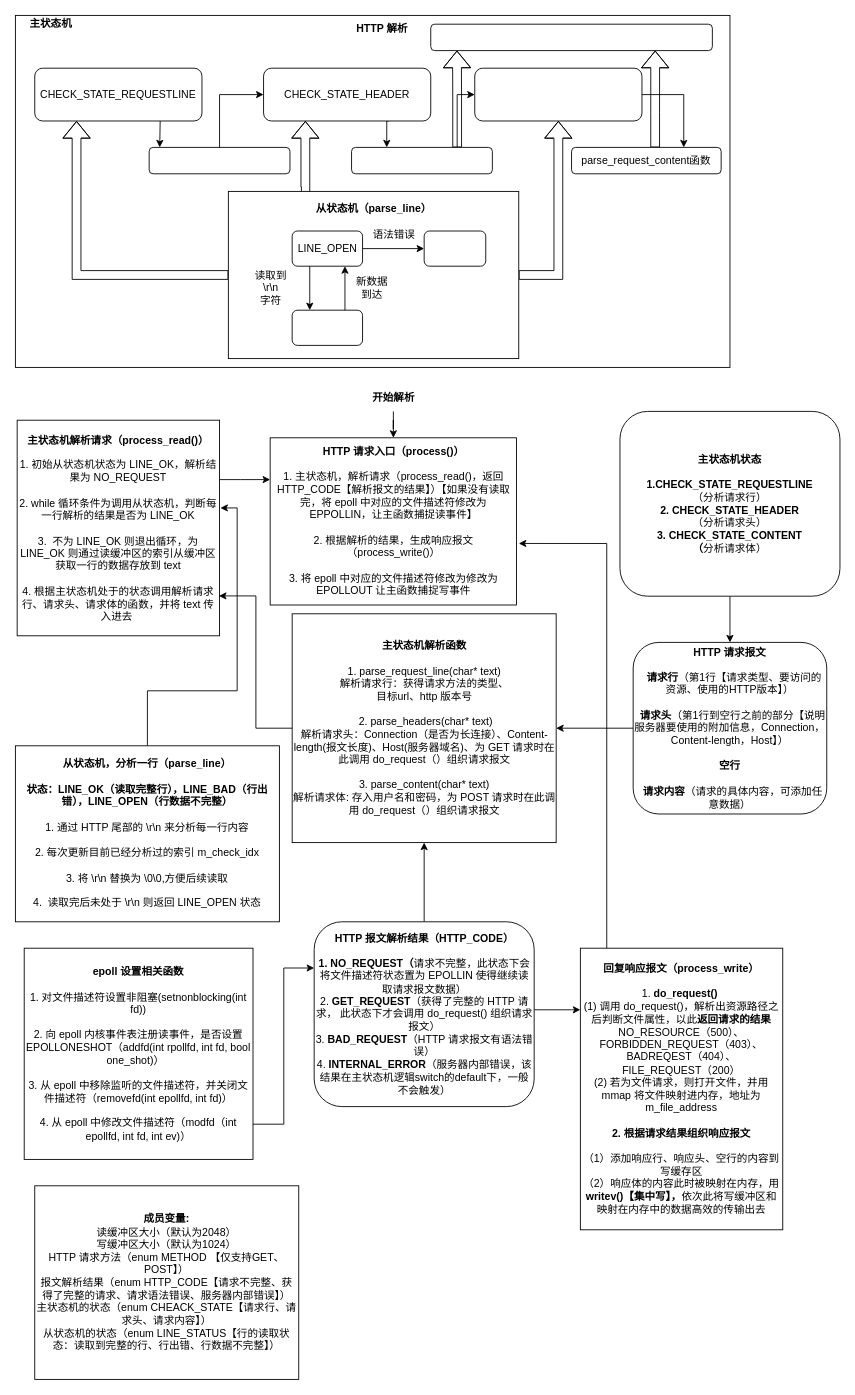
Some shapes in this 855 by 1395 pixel diagram are drawn without their labels. Here are the shapes that lost their labels. From the top down, the centre of each, then its label:
At point 571,37: "do_request函数".
At point 558,94: "CHECK_STATE_CONTENT".
At point 219,160: "parse_request_line函数".
At point 421,160: "parse_request_headers函数".
At point 454,248: "LINE_BAD".
At point 327,327: "LINE_OK".
